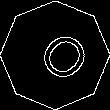O_SW: (21, 22, 89, 88)
